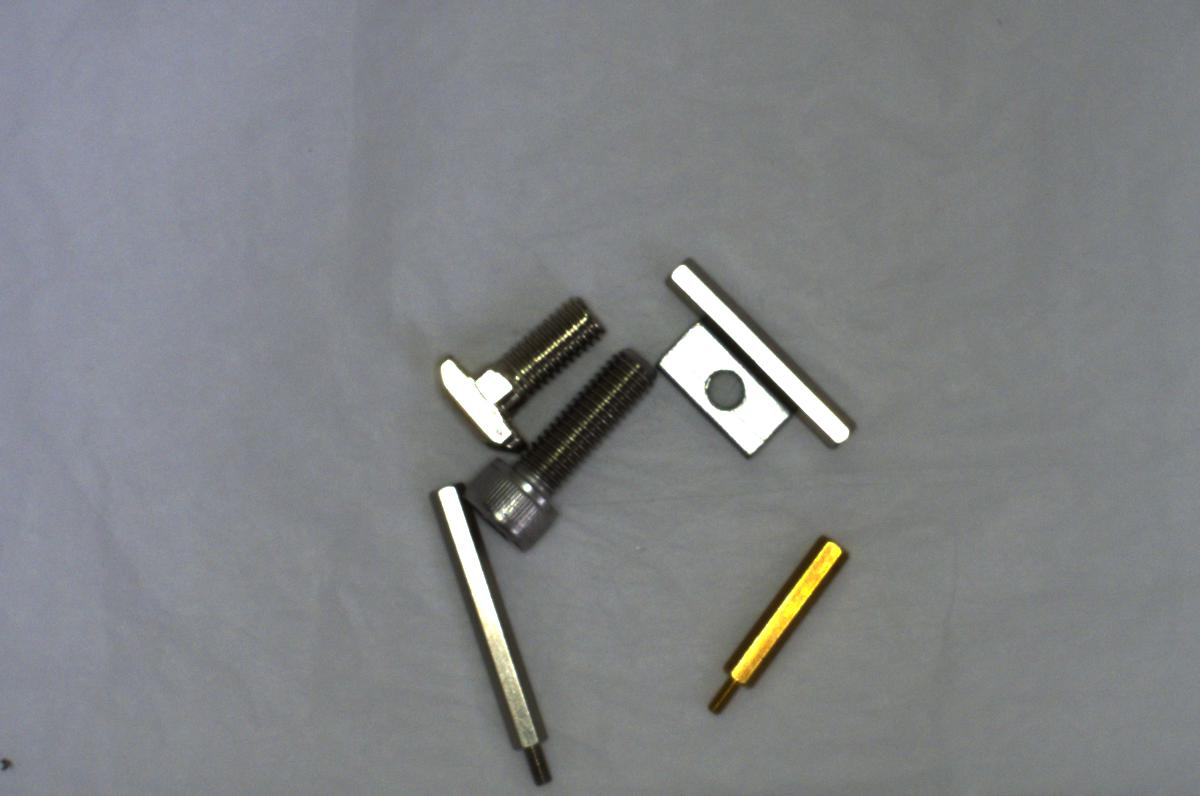Double hexagonal column: (662, 250, 854, 450)
Hexagon pillar: (692, 525, 857, 718)
Hexagon screw: (460, 347, 654, 546)
Hexagonal steel column: (419, 478, 563, 795)
Rectangular nut: (652, 318, 793, 456)
T-shaped screw: (430, 288, 608, 456)
